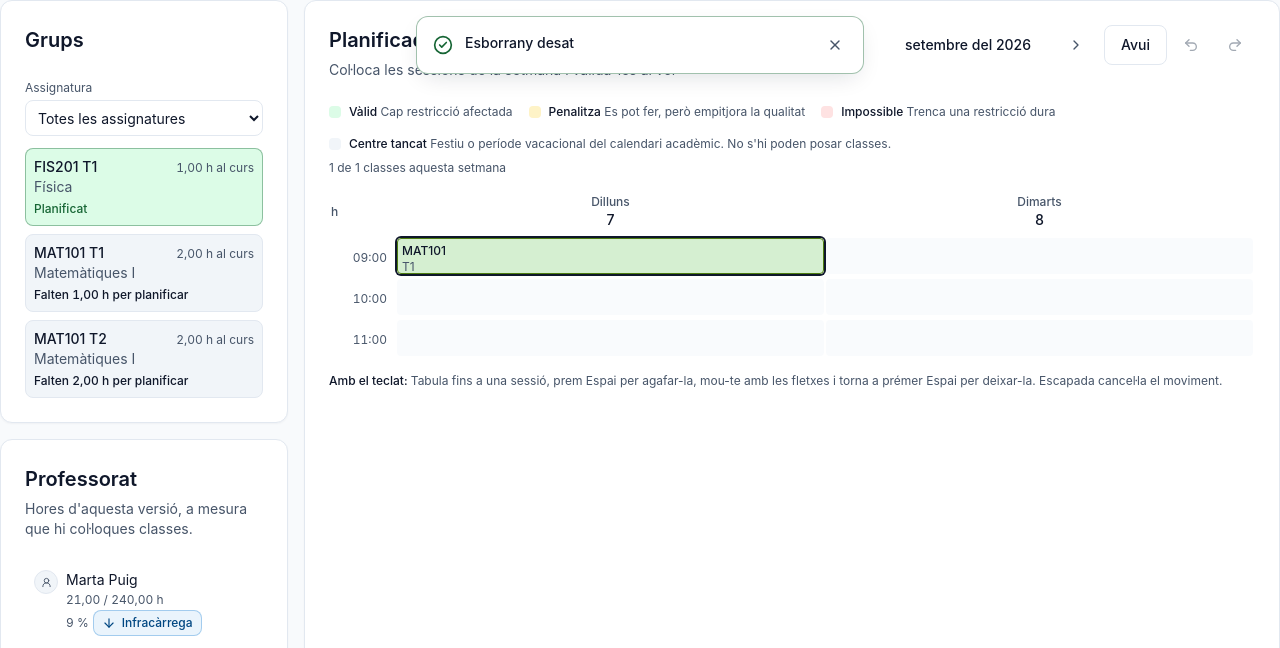
the visual planner › refuses an impossible drop and says why instead of failing silently
Click the button with aria-label "MAT101 T1, Dilluns de 09:00 a 10:00" at (424, 251), box [402,243,819,275]
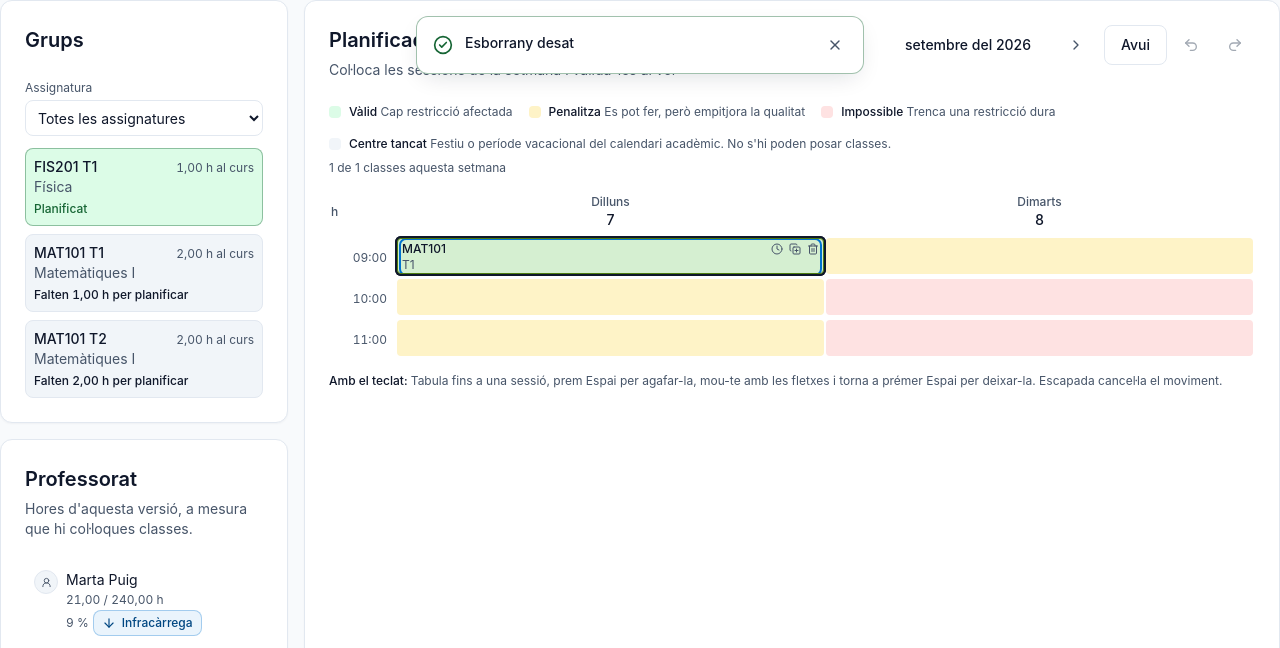
Click the button named "Mou MAT101 T1 a Dimarts a les 10:00" at (1040, 297), box [826,279,1253,315]
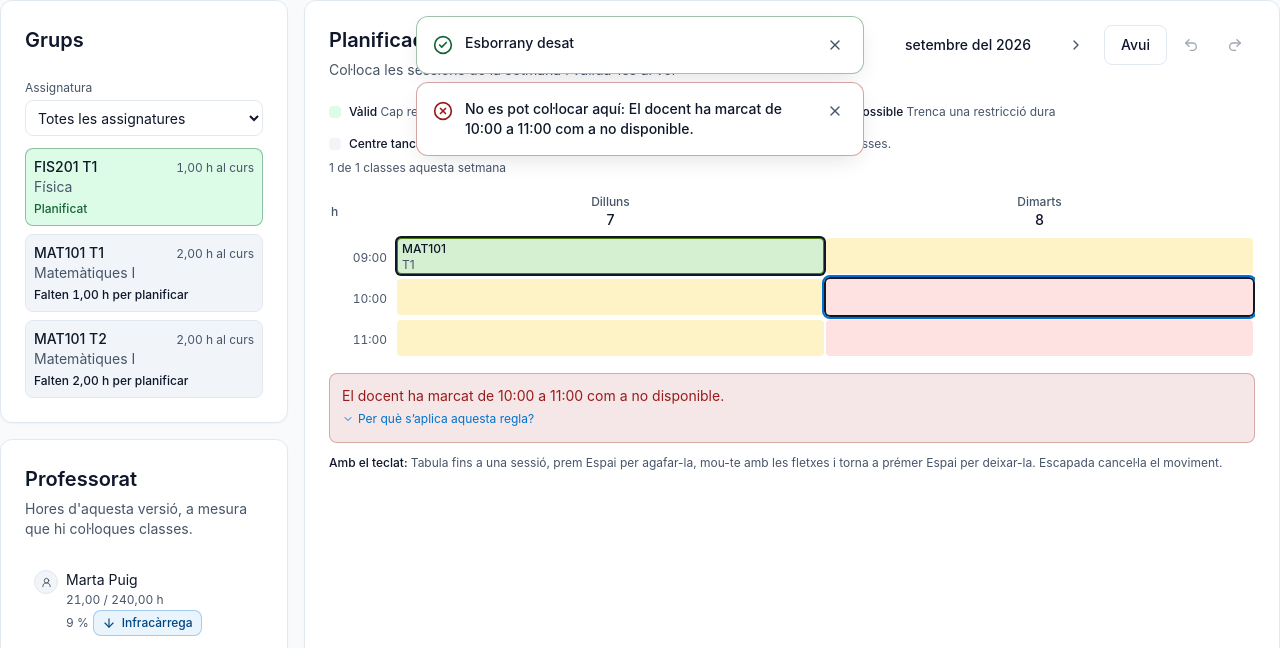
Now the text "No es pot col·locar aquí" is shown, box [465,100,782,137]
